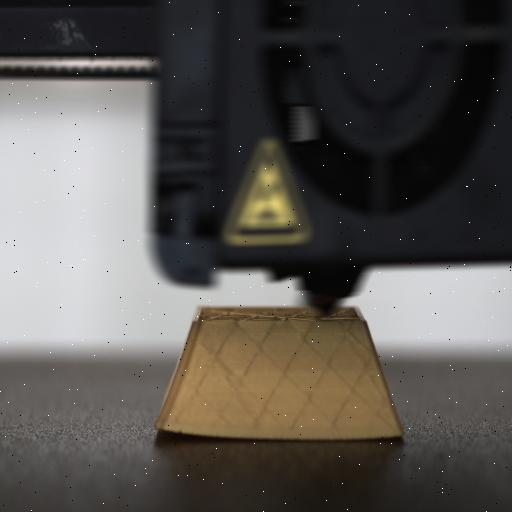warp: (147, 417, 193, 440)
